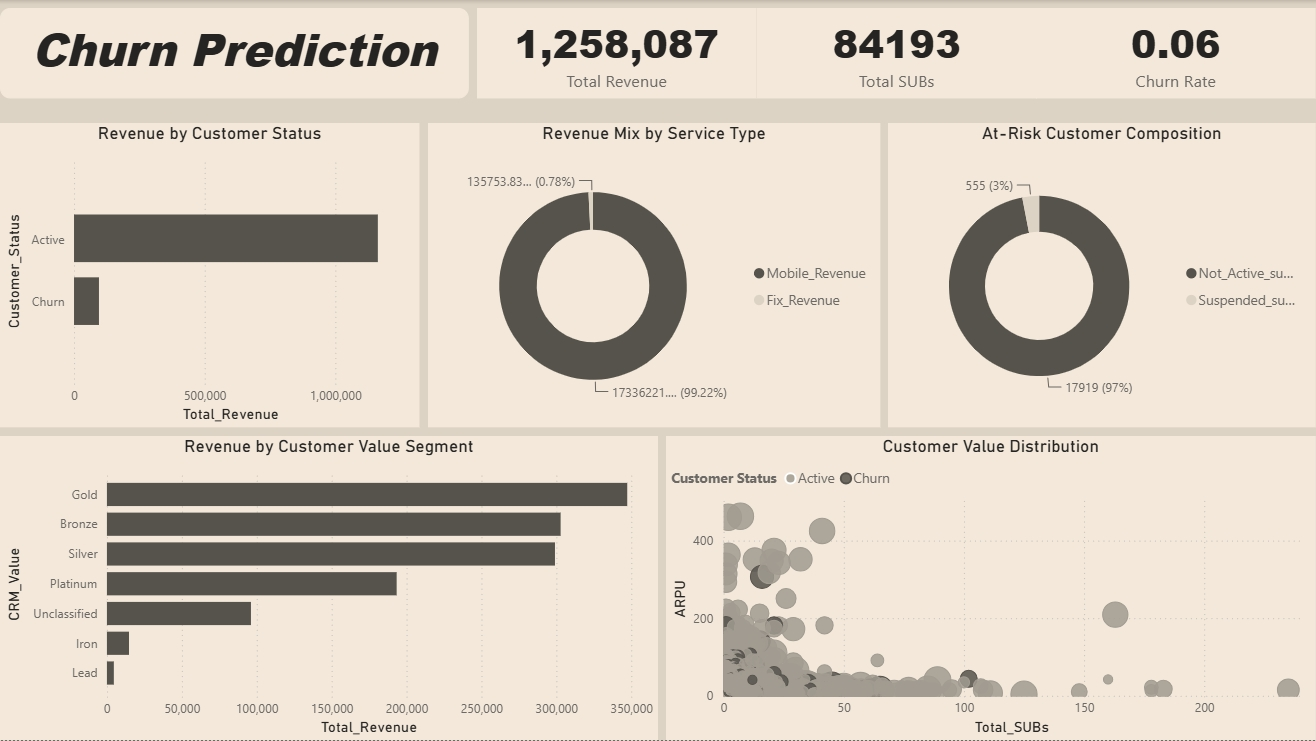

The dashboard page shown, as its layout file describes it:
{"tool":"powerbi","page":{"name":"Active Customers","canvas":[1280,720],"ordinal":0},"visuals":[{"type":"pageNavigator","box":[640,0,640,112],"z":0},{"type":"card","fields":{"Values":["prepare_drop2.Avg ARPU (Active)"]},"box":[0,272,408,144],"z":1000},{"type":"actionButton","box":[0,0,100,40],"z":2000},{"type":"card","fields":{"Values":["Sum(prepare_drop2.TotalRevenue)"]},"box":[0,120,408,144],"z":3000},{"type":"barChart","title":"Revenue by Customer Value Segment","fields":{"Category":["prepare_drop2.CRM_PID_Value_Segment"],"Y":["Sum(prepare_drop2.TotalRevenue)"]},"box":[0,424,632,296],"z":4000},{"type":"clusteredBarChart","title":"Business Perfomance","fields":{"Y":["Sum(prepare_drop2.TotalRevenue)"],"Category":["prepare_drop2.KA_name"]},"box":[640,424,640,296],"z":5000},{"type":"textbox","box":[0,0,632,112],"z":6000},{"type":"donutChart","title":"At-Risk Customer Composition","fields":{"Y":["Sum(prepare_drop2.Not_Active_subscribers)","Sum(prepare_drop2.Suspended_subscribers)"]},"box":[864,120,416,296],"z":7000},{"type":"donutChart","title":"整體營收結構","fields":{"Y":["prepare_drop2.FIX Revenue Share","prepare_drop2.Mobile Revenue Share"]},"box":[416,120,440,296],"z":8000}]}

Visuals, with their boxes in screenshot pixels (x1, y1, x2, y2), scaled from the page's 1280x720 canvas onto the 1316x741 screenshot:
pageNavigator: (658, 0, 1315, 115)
card - prepare_drop2.Avg ARPU (Active): (0, 280, 419, 428)
actionButton: (0, 0, 103, 41)
card - Sum(prepare_drop2.TotalRevenue): (0, 123, 419, 272)
"Revenue by Customer Value Segment" barChart: (0, 436, 650, 740)
"Business Perfomance" clusteredBarChart: (658, 436, 1315, 740)
textbox: (0, 0, 650, 115)
"At-Risk Customer Composition" donutChart: (888, 123, 1315, 428)
"整體營收結構" donutChart: (428, 123, 880, 428)
